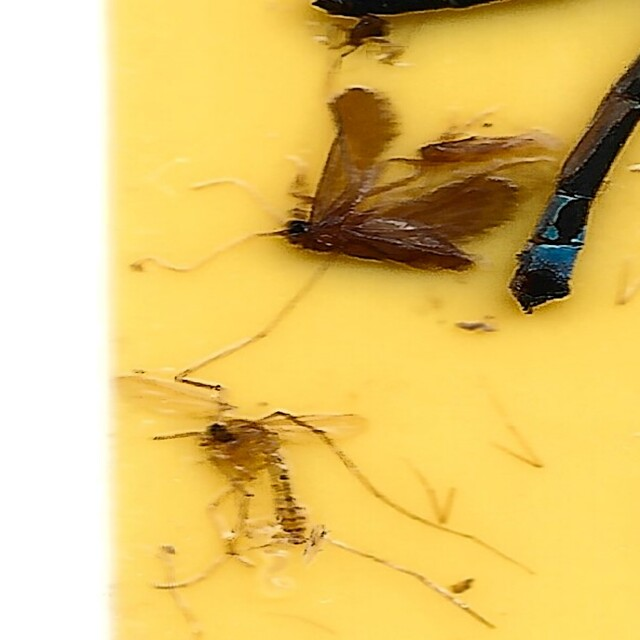Nematocera: (108, 369, 366, 555)
Trichoptera: (270, 85, 528, 278), (416, 123, 532, 171)
